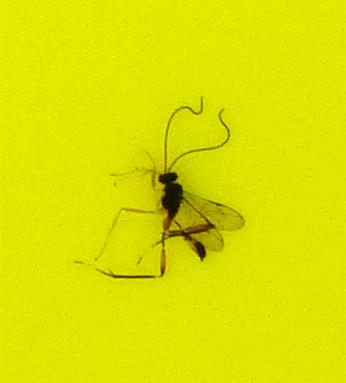Hymenoptera: (100, 100, 246, 283)
